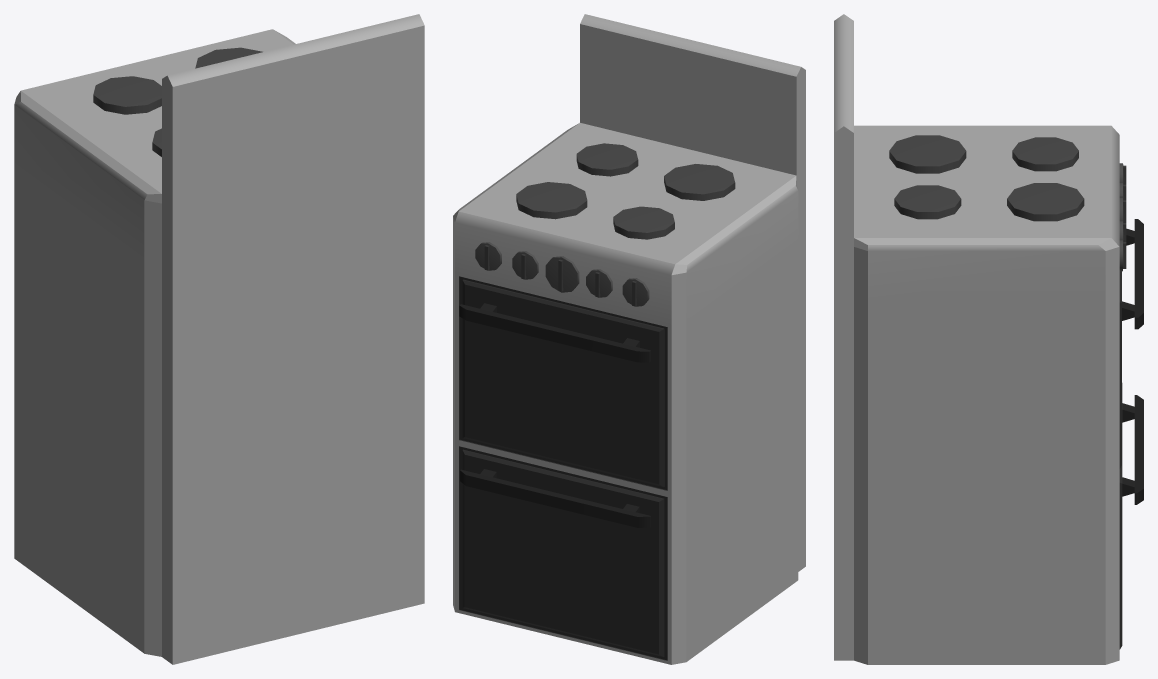
The model's file is OvenModel.fbx.
3 renders of one model, left to right at view 1: azimuth 30°, elevation 25°; view 2: azimuth 150°, elevation 25°; view 3: azimuth 270°, elevation 25°, orthographic. The views are drawn at different scales.
Parts seen in each view (by area): view 1: OvenModel; view 2: OvenModel; view 3: OvenModel.
Part boxes in pixels (x1=…): OvenModel: x1=14, y1=14, x2=424, y2=664; OvenModel: x1=453, y1=14, x2=805, y2=664; OvenModel: x1=834, y1=14, x2=1143, y2=664.
Size of the model in its own units: 69.64 by 143 by 75.41.
